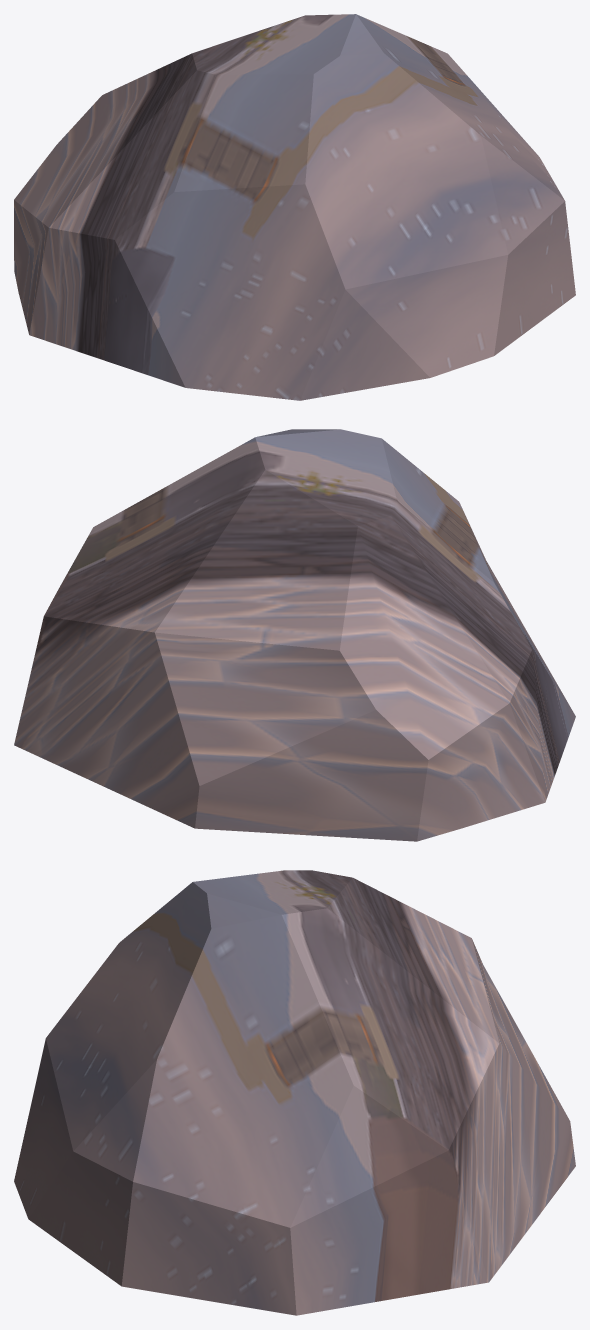
File: Mountain_2.fbx
3 renders of one model, top to bottom at view 1: azimuth 30°, elevation 25°; view 2: azimuth 150°, elevation 25°; view 3: azimuth 270°, elevation 25°, orthographic. The views are drawn at different scales.
Visible parts, largest first — view 1: Rock.008; view 2: Rock.008; view 3: Rock.008.
Part boxes in pixels (x1,y1,x2,y2): Rock.008: (14,14,575,400); Rock.008: (14,429,575,841); Rock.008: (14,870,575,1315).
Bounding box in the file's own units: 5856 × 2926 × 5100.
